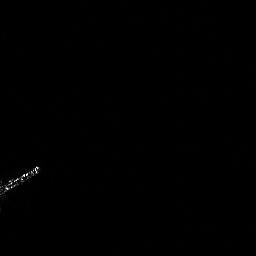ship: (1, 164, 40, 200)
